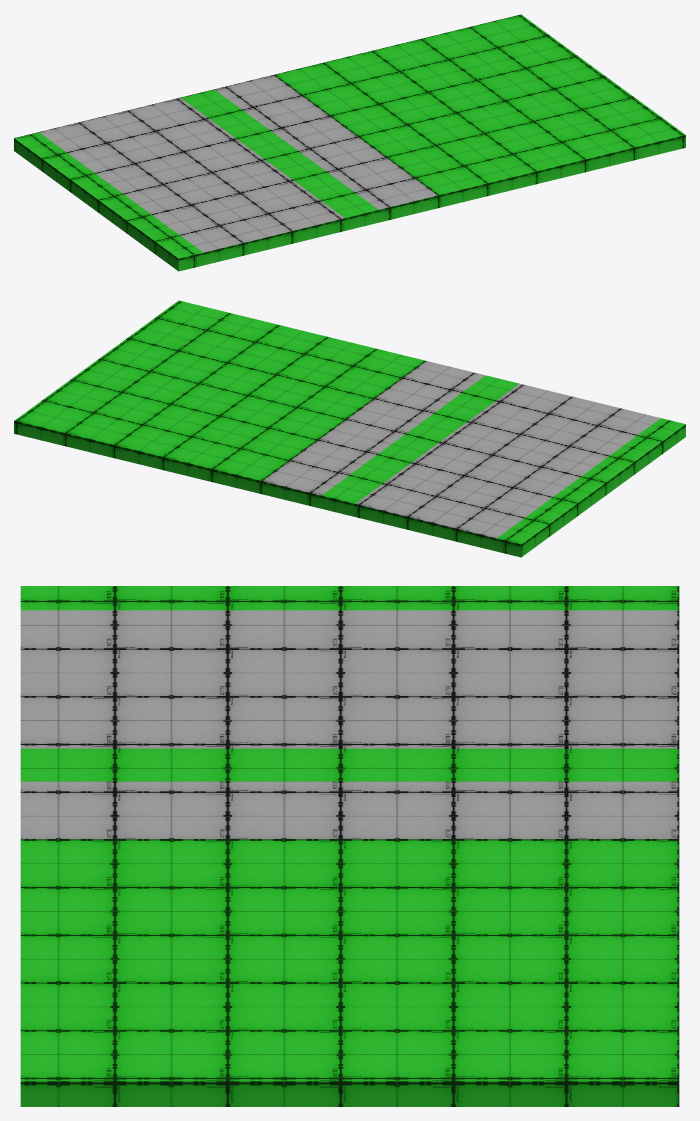
The model's file is Casa_EXTERIOR_suelo_jardin_Anterior.fbx.
The picture shows the model from 3 angles, top to bottom: view 1: azimuth 30°, elevation 25°; view 2: azimuth 150°, elevation 25°; view 3: azimuth 270°, elevation 25°; orthographic projection. The views are drawn at different scales.
Parts seen in each view (by area): view 1: Casa_EXTERIOR_suelo_jardin_Anterior; view 2: Casa_EXTERIOR_suelo_jardin_Anterior; view 3: Casa_EXTERIOR_suelo_jardin_Anterior.
Part boxes in pixels (x1,y1,x2,y2): Casa_EXTERIOR_suelo_jardin_Anterior: (14, 14, 685, 271); Casa_EXTERIOR_suelo_jardin_Anterior: (14, 300, 685, 557); Casa_EXTERIOR_suelo_jardin_Anterior: (20, 586, 679, 1106).
Bounding box in the file's own units: 10.38 × 0.2503 × 5.84.
